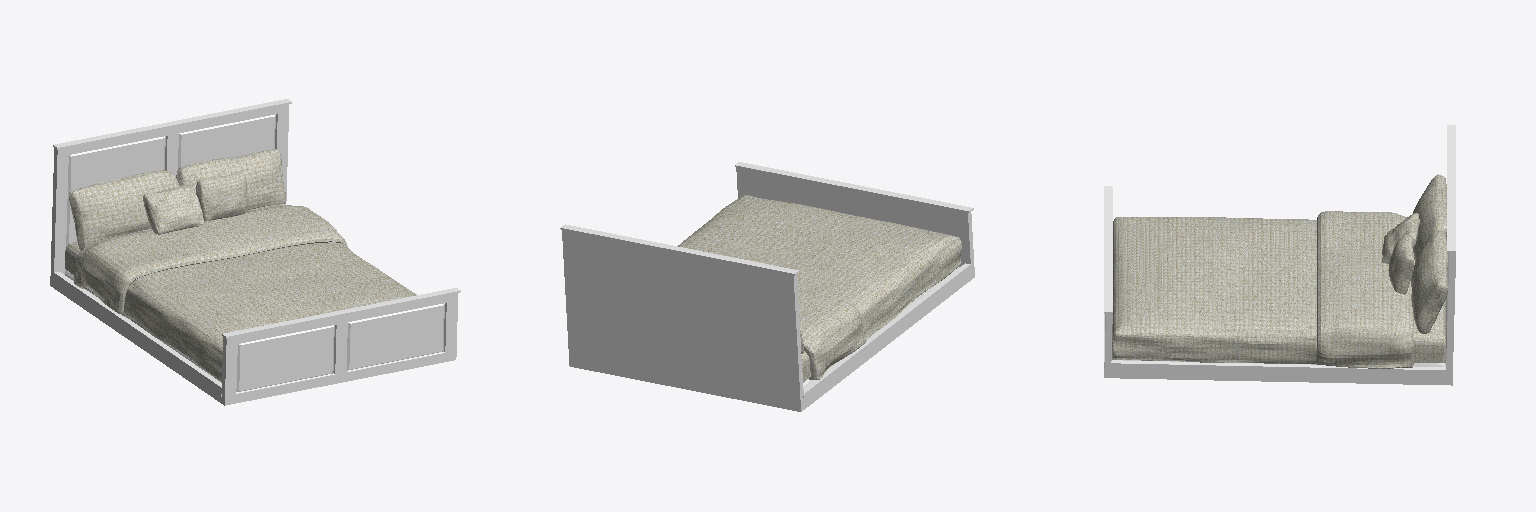
3 renders of one model, left to right at view 1: azimuth 30°, elevation 25°; view 2: azimuth 150°, elevation 25°; view 3: azimuth 270°, elevation 25°, orthographic.
Parts seen in each view (by area): view 1: Cama3; view 2: Cama3; view 3: Cama3.
Part boxes in pixels (x1,y1,x2,y2): Cama3: (50, 99, 460, 405); Cama3: (560, 162, 974, 411); Cama3: (1104, 125, 1455, 385).
Size of the model in its own units: 165 by 98.91 by 211.
Materials: 2 (1 with a texture image).